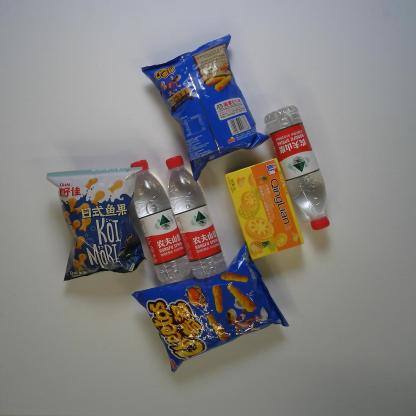Dessert: (224, 158, 305, 262)
Drink: (264, 105, 333, 233), (162, 154, 228, 281), (129, 158, 192, 286)
Puffed Food: (131, 242, 290, 376), (140, 32, 272, 182), (44, 167, 149, 284)
